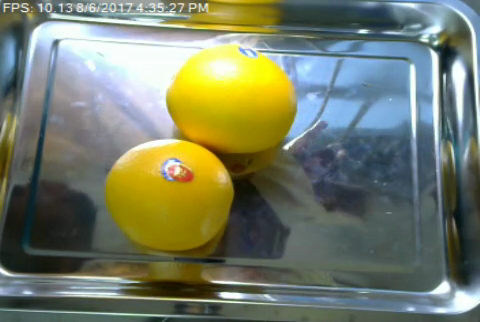Orange: (103, 137, 233, 250), (165, 46, 297, 155)
